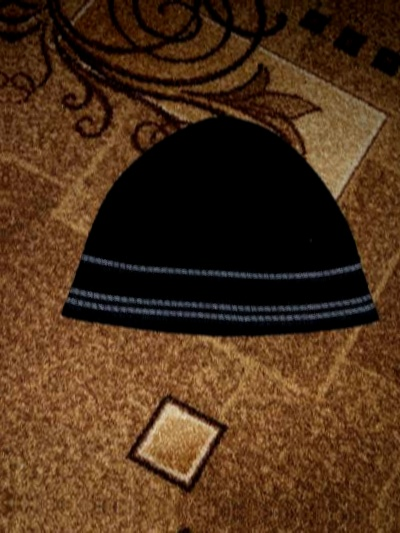Hat: (49, 89, 391, 361)
